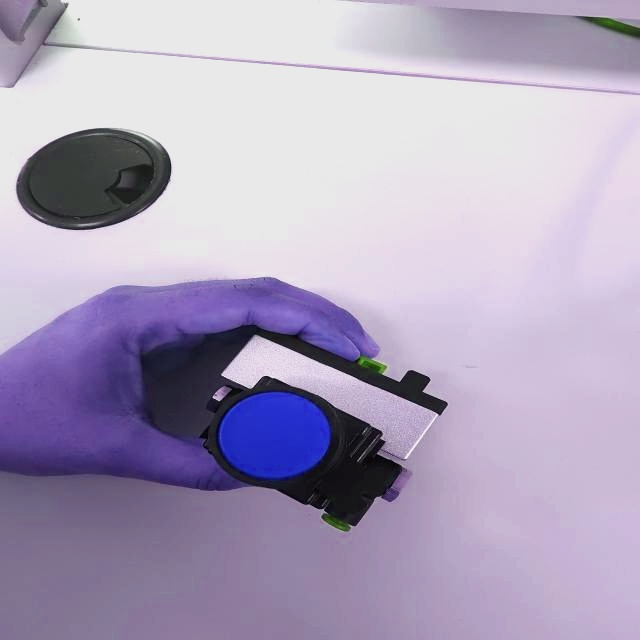push button: (183, 330, 457, 539)
